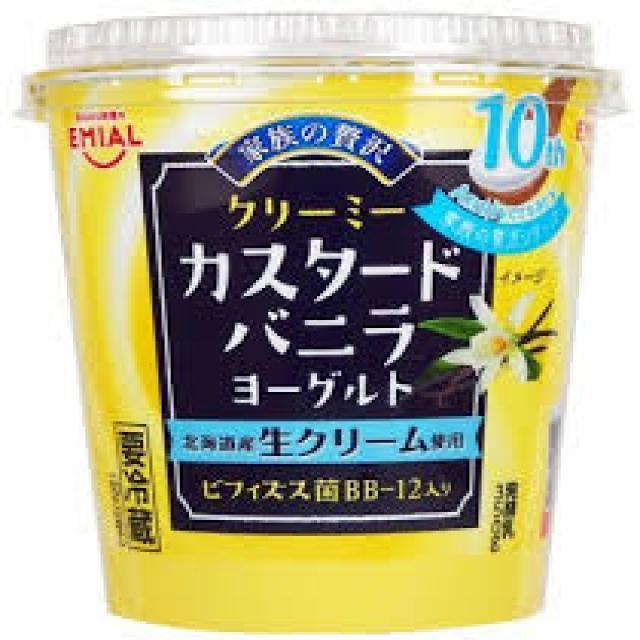Plastic: (10, 12, 627, 631)
